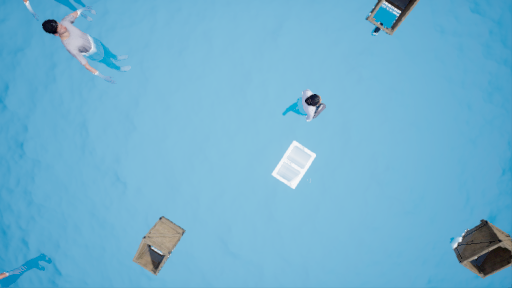person: (43, 14, 131, 85), (281, 90, 324, 122)
